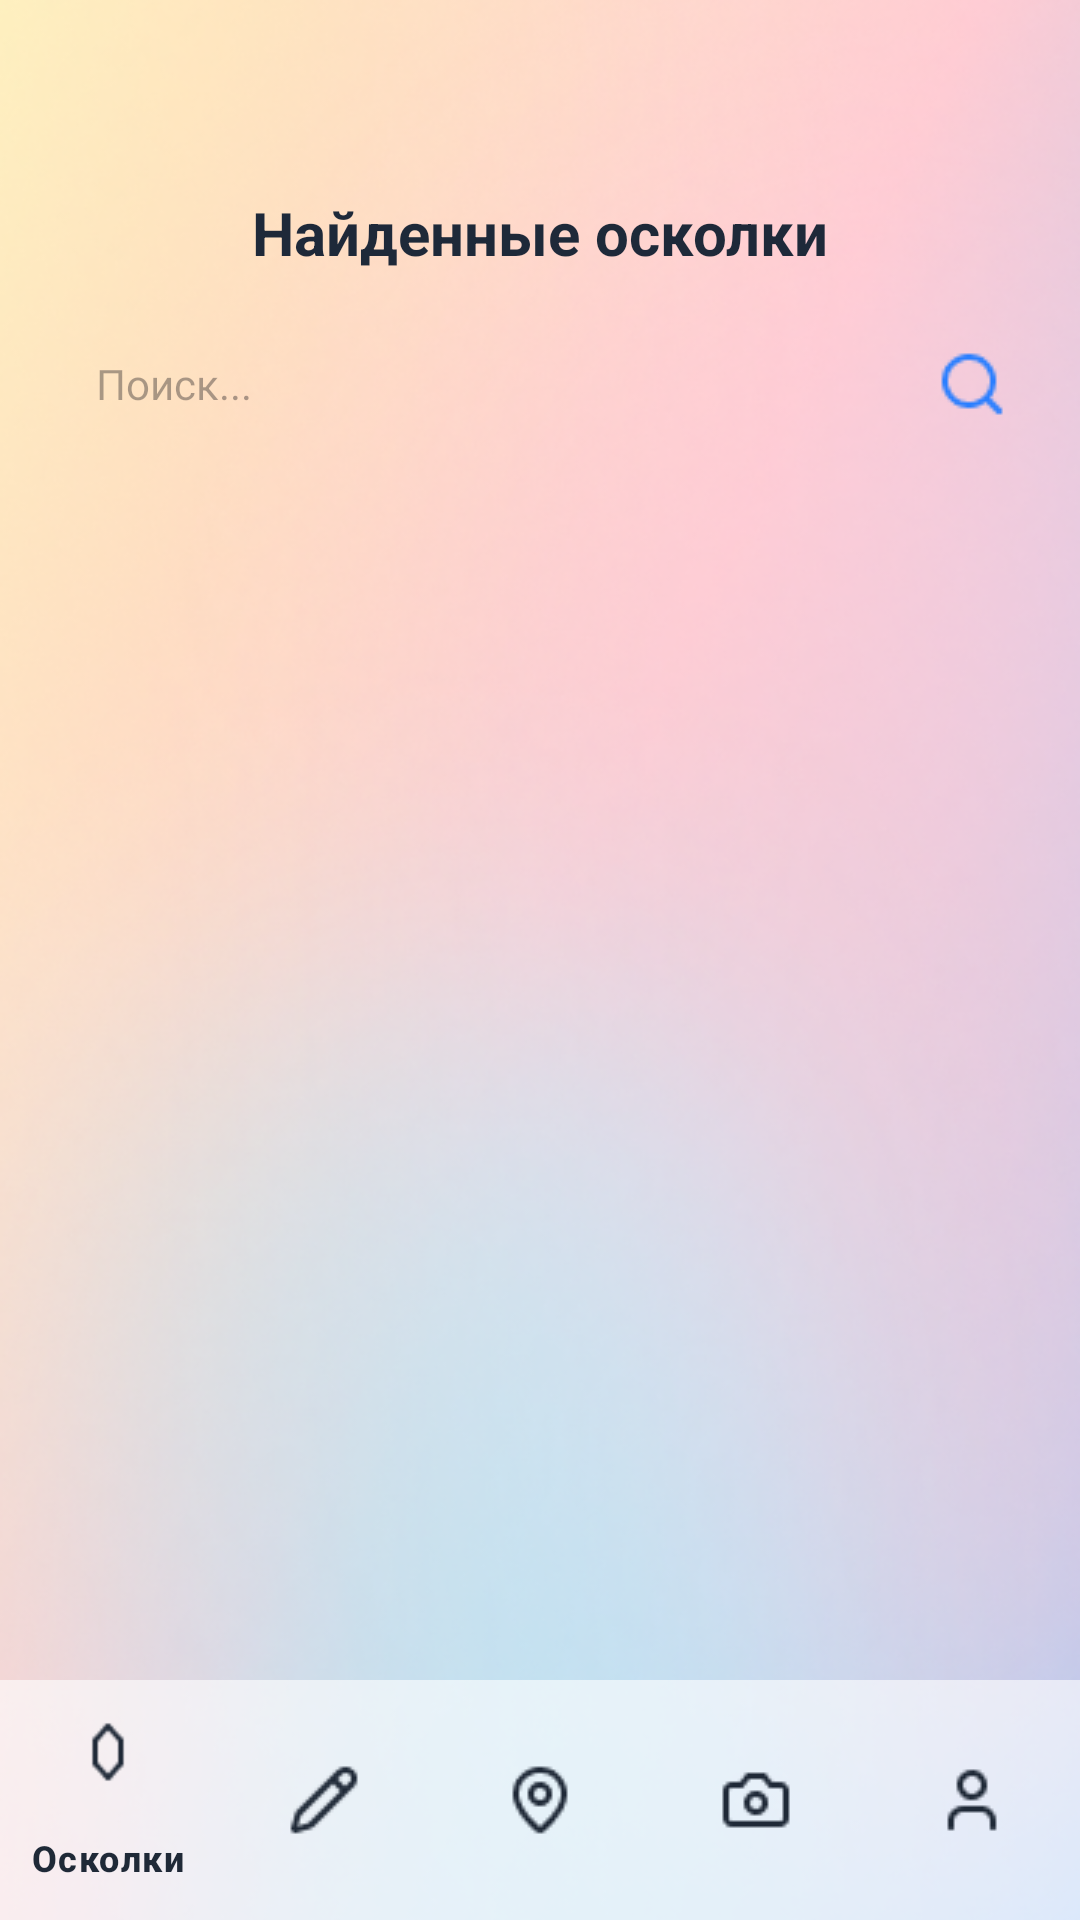

Screen size 1080px×1920px. Icon name, then its box in pixels as (x1, y1, x2, y2):
search: (941, 353, 1003, 415)
